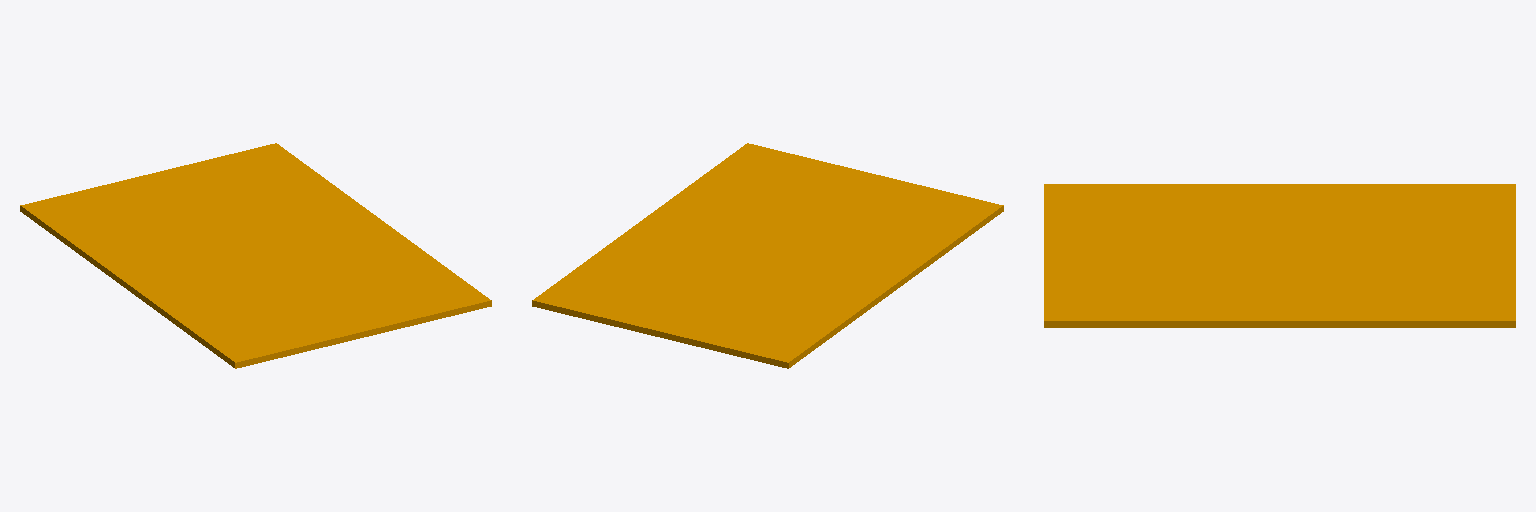
The robot description file, URDF, robot "plane":
<?xml version="0.0" ?>
<robot name="plane">
  <link name="floor">
  <contact>
      <lateral_friction value="1"/>
  </contact>
    <inertial>
      <origin rpy="0 0 0" xyz="0 0 -0.125"/>
       <mass value=".0"/>
       <inertia ixx="0" ixy="0" ixz="0" iyy="0" iyz="0" izz="0"/>
    </inertial>
    <visual>
      <origin rpy="0 0 0" xyz="0 0 -0.125"/>
      <geometry>
				<mesh filename="plane.obj" scale=".5 .5 .5"/>
      </geometry>
       <!-- <material name="white">
        <color rgba="1 1 1 1"/>
      </material> -->
    </visual>
    <collision>
      <origin rpy="0 0 0" xyz="0 0 -1"/>
      <geometry>
	 	<box size="20 20 2"/>
       
      </geometry>
    </collision>
  </link>
</robot>


--- Facts derived from the render (not from the file) ---
Views: 3 orthographic renders of the robot side by side, from view 1: azimuth 30°, elevation 25°; view 2: azimuth 150°, elevation 25°; view 3: azimuth 270°, elevation 25°.
Model plane with 1 links and 0 joints (none), rooted at floor, posed every joint at zero.
Links seen in each view (by area): view 1: floor; view 2: floor; view 3: floor.
Link boxes in pixels (bbox=[...]): floor: bbox=[20, 143, 491, 368]; floor: bbox=[532, 143, 1003, 368]; floor: bbox=[1044, 184, 1515, 327].
Size in the robot's own frame: 11 by 16 by 0.25 metres.
1 mesh visuals loaded from 1 distinct referenced files (1 OBJ).